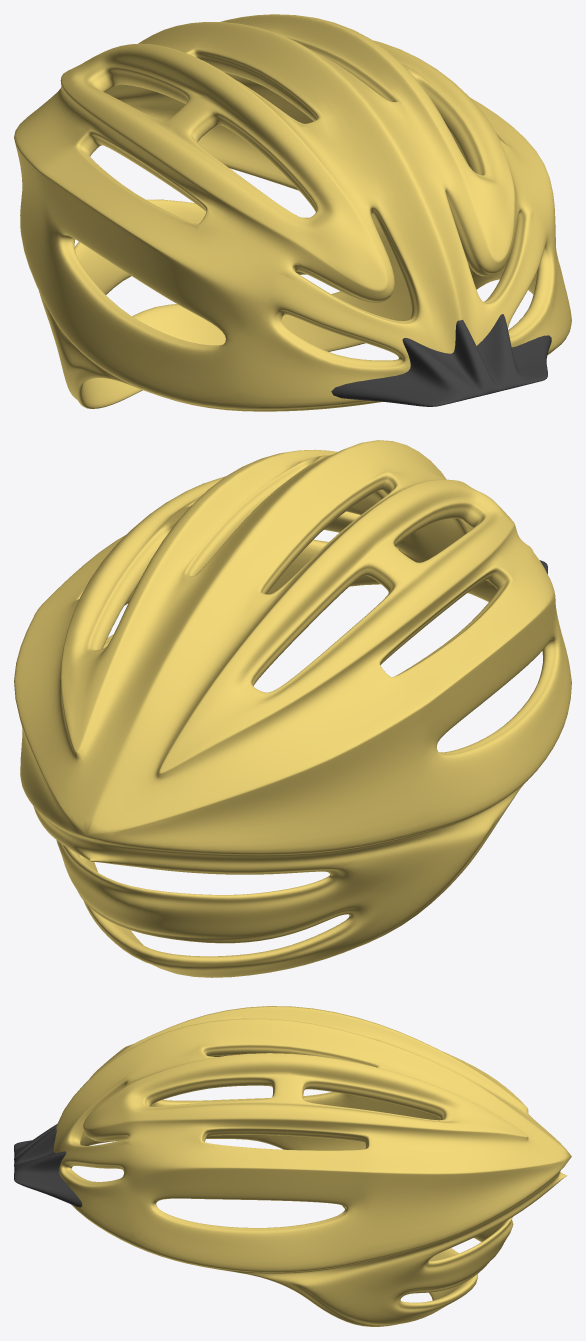
The model's file is helmet2-yellow.glb.
3 views of the same model, one above another, from view 1: azimuth 30°, elevation 25°; view 2: azimuth 150°, elevation 25°; view 3: azimuth 270°, elevation 25° (orthographic). The views are drawn at different scales.
Parts seen in each view (by area): view 1: 11723_helmet_sg; view 2: 11723_helmet_sg; view 3: 11723_helmet_sg.
Boxes of the visible parts, <box> form: 11723_helmet_sg: <box>14,14,571,411</box>; 11723_helmet_sg: <box>14,440,571,977</box>; 11723_helmet_sg: <box>14,1006,571,1326</box>.
Size of the model in its own units: 0.1521 by 0.1423 by 0.2539.
